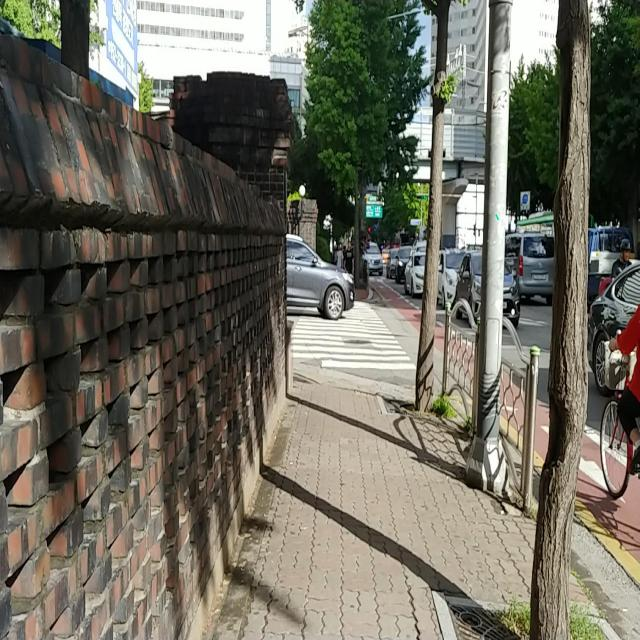횡단보도: (289, 298, 418, 372)
